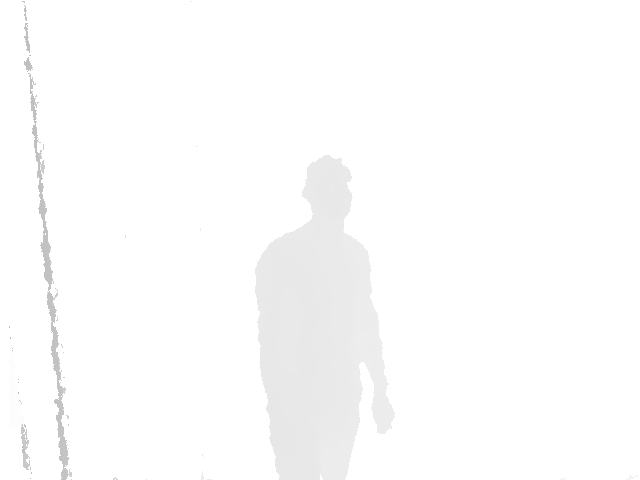head: (301, 156, 352, 229)
person: (252, 155, 397, 480)
